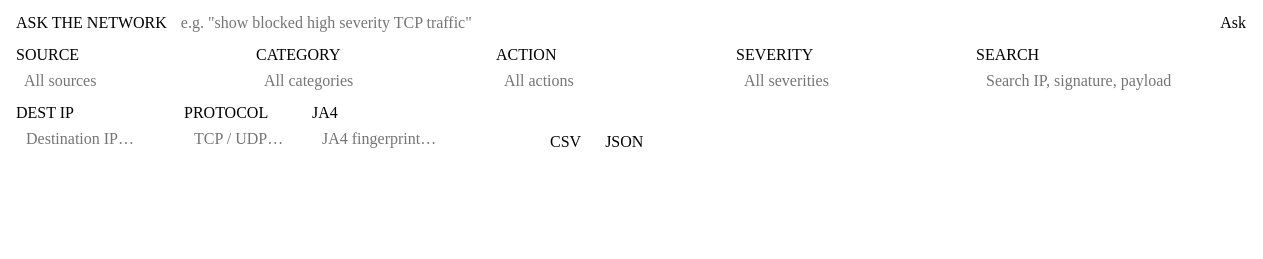
it: FacetFilters — render › "blocked" option is available in the Action dropdown (issue #252)
Focus the field with placeholder "All actions" at {"x": 628, "y": 81}, box [496,66,760,96]
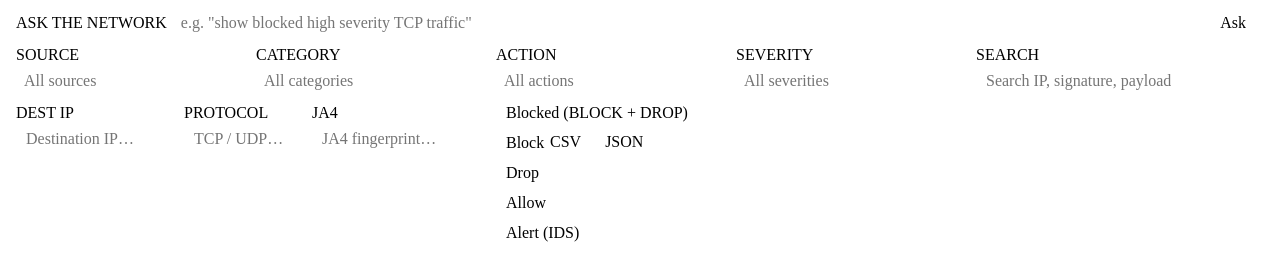
Expected: the text with test id "combobox-option-blocked" reads "Blocked (BLOCK + DROP)", [506,104,688,121]
